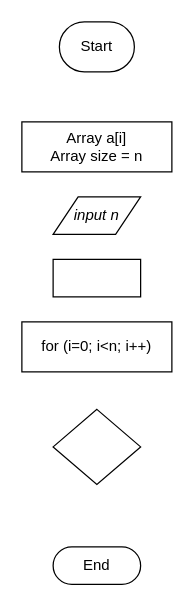
The diagram is 194 pixels wide and 606 high, and some of its shapes have lost their labels. Each missing label, with the centre of its shape:
"max = a[0]" belongs at pixel 96 277.
"max = a[i]" belongs at pixel 96 446.
